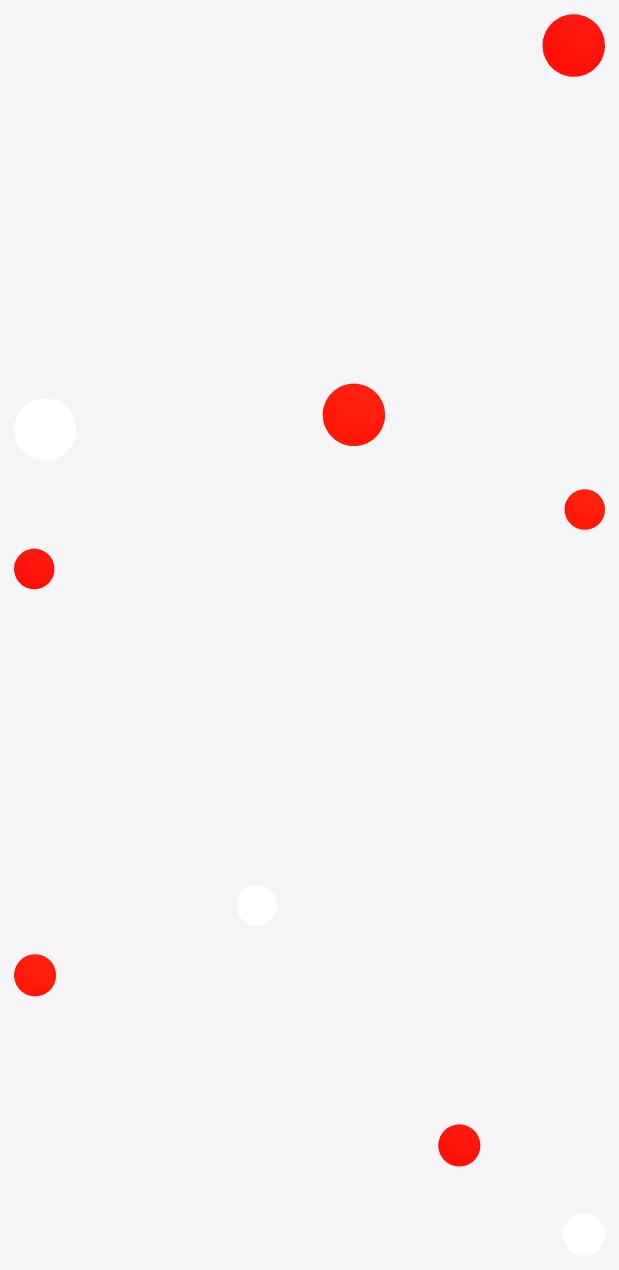
File: PinPoints.glb
3 views of the same model, one above another, from view 1: azimuth 30°, elevation 25°; view 2: azimuth 150°, elevation 25°; view 3: azimuth 270°, elevation 25° (orthographic). The views are drawn at different scales.
Parts seen in each view (by area): view 1: Sphere.001, Sphere.002, Sphere; view 2: Sphere, Sphere.001, Sphere.002; view 3: Sphere, Sphere.001, Sphere.002.
Boxes of the visible parts, <box> form: Sphere.001: <box>14,398,76,460</box>; Sphere.002: <box>542,14,604,76</box>; Sphere: <box>322,383,384,445</box>; Sphere: <box>564,489,604,529</box>; Sphere.001: <box>236,885,276,925</box>; Sphere.002: <box>14,548,54,589</box>; Sphere: <box>14,954,55,996</box>; Sphere.001: <box>563,1213,604,1255</box>; Sphere.002: <box>438,1124,480,1166</box>.
Size of the model in its own units: 0.2172 by 0.1417 by 0.2803.
